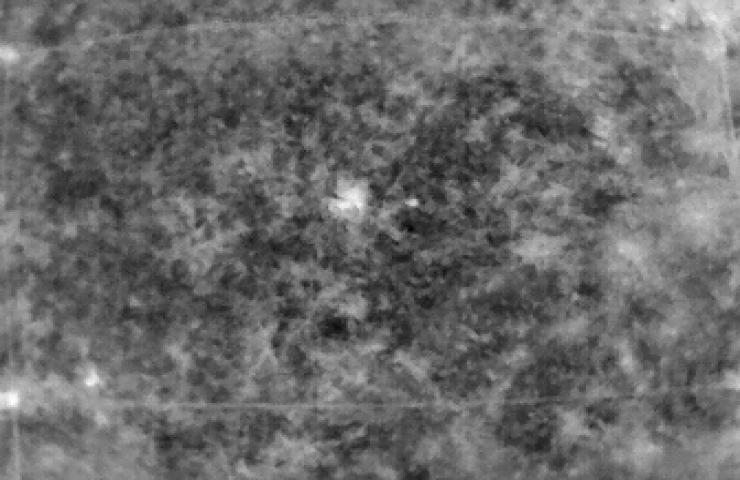landmines: (329, 184, 371, 217)
